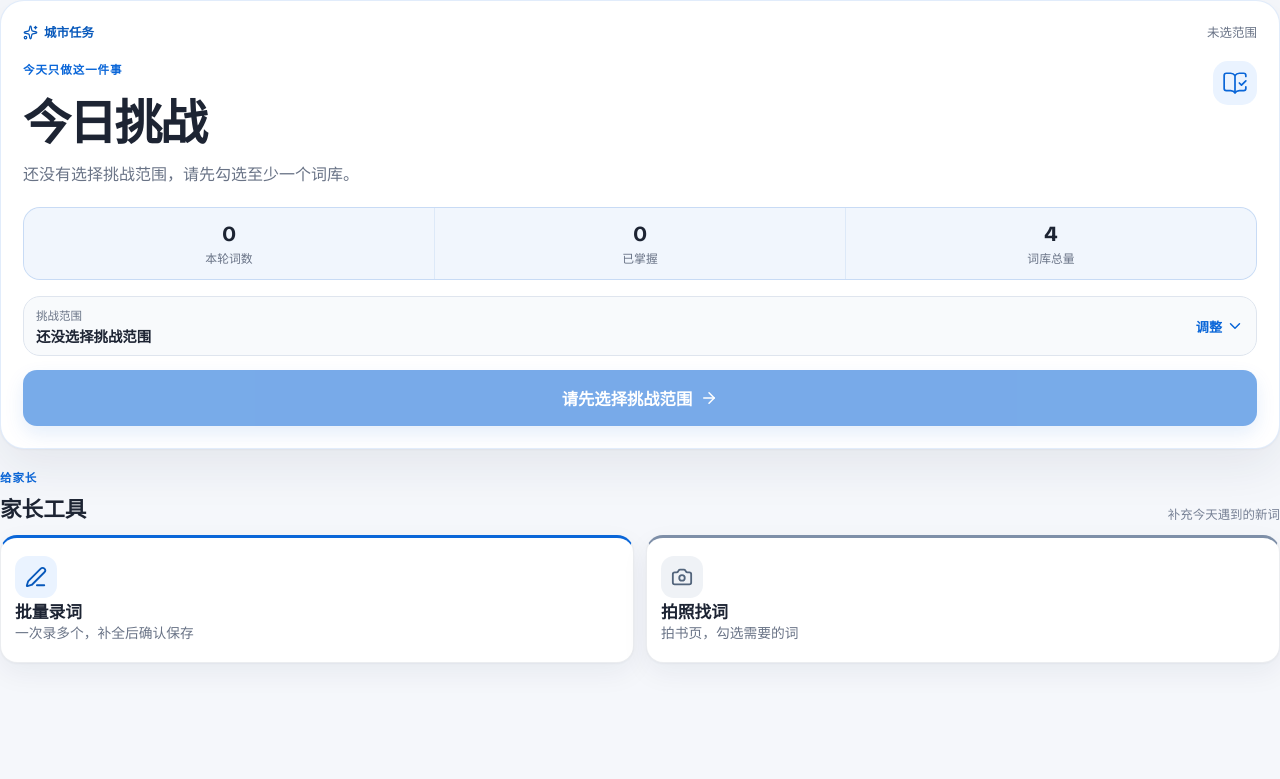
Test: HomePage › does not fall back to other libraries when the default library is empty
Expected: the text "还没选择挑战范围" is shown, [36, 324, 151, 346]
Click the button with aria-label "调整挑战范围" at (59, 316), box [24, 297, 1256, 355]
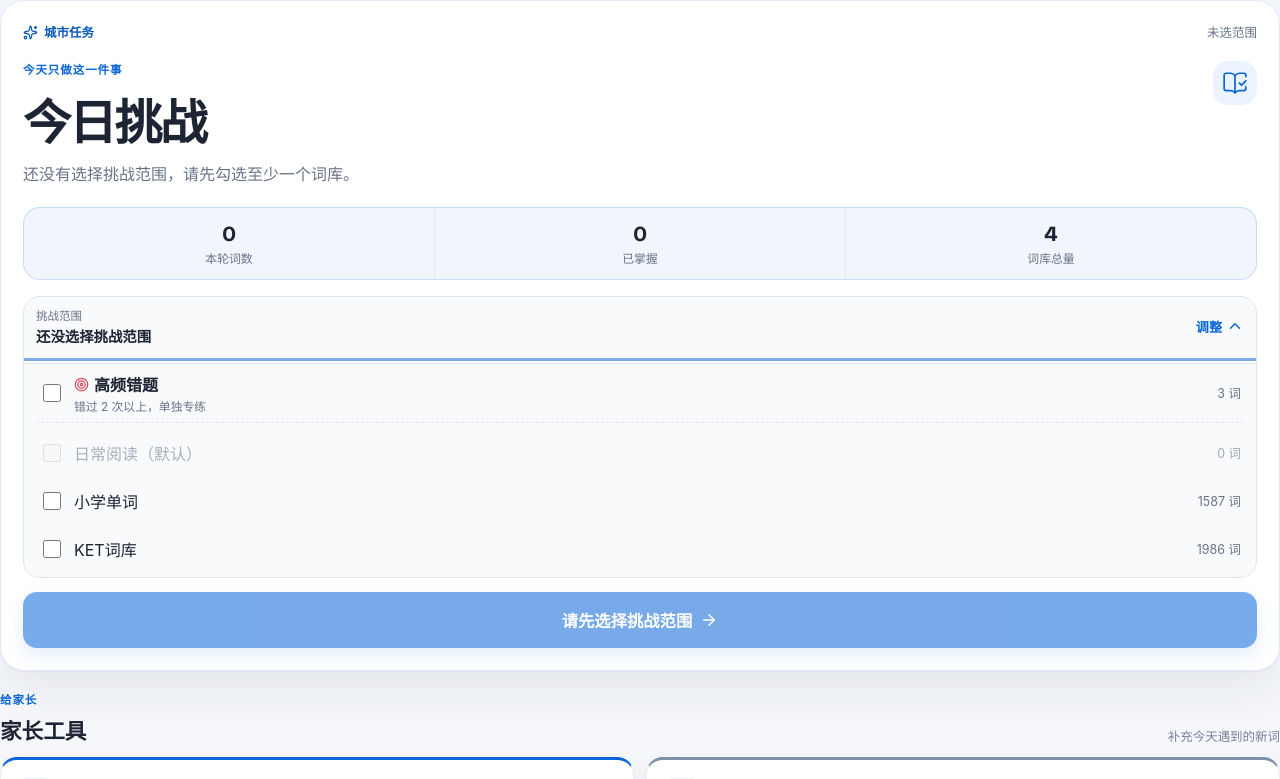
Result: the checkbox labelled "日常阅读（默认） 0 词" is disabled at [43, 444, 61, 462]
Result: the checkbox labelled "小学单词 1587 词" is not checked at [43, 492, 61, 510]
Result: the checkbox labelled "KET词库 1986 词" is not checked at [43, 540, 61, 558]
Click the checkbox labelled "高频错题 错过 2 次以上，单独专练 3 词" at (52, 393), box [43, 384, 61, 402]
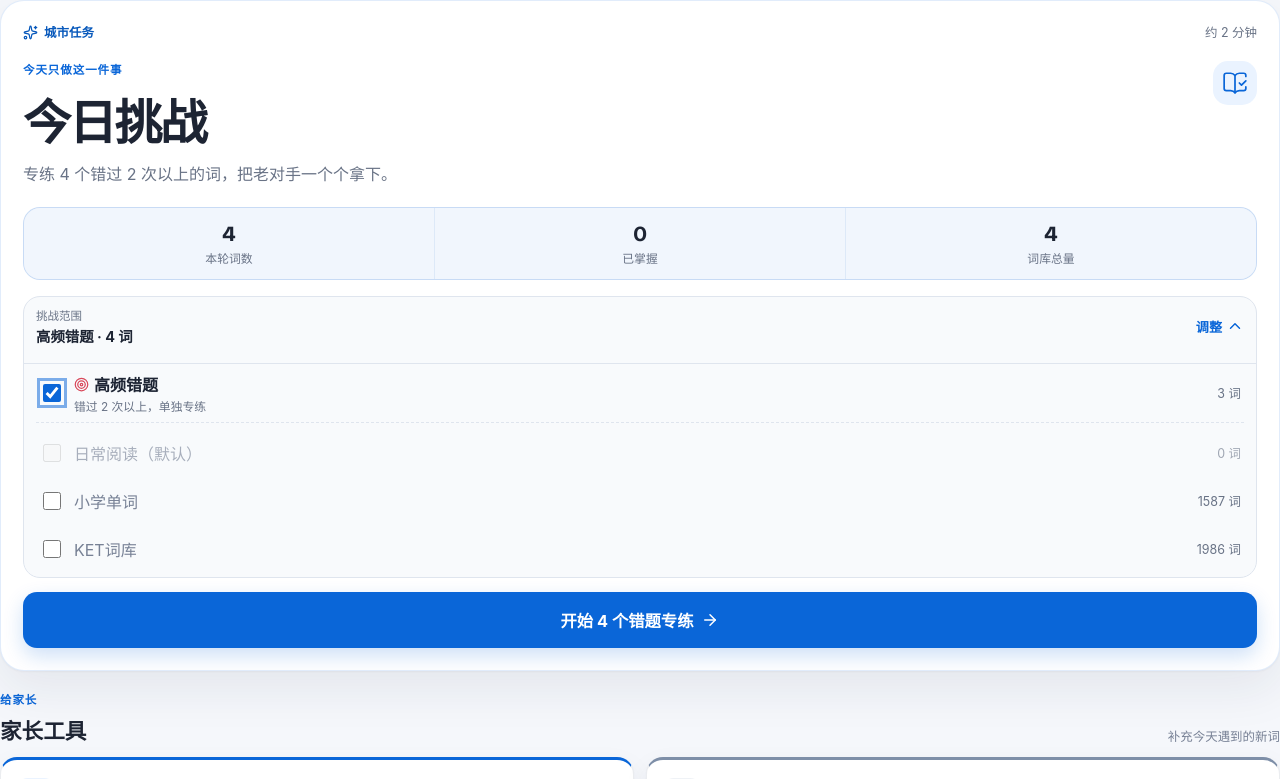
Click the checkbox labelled "高频错题 错过 2 次以上，单独专练 3 词" at (52, 393), box [43, 384, 61, 402]
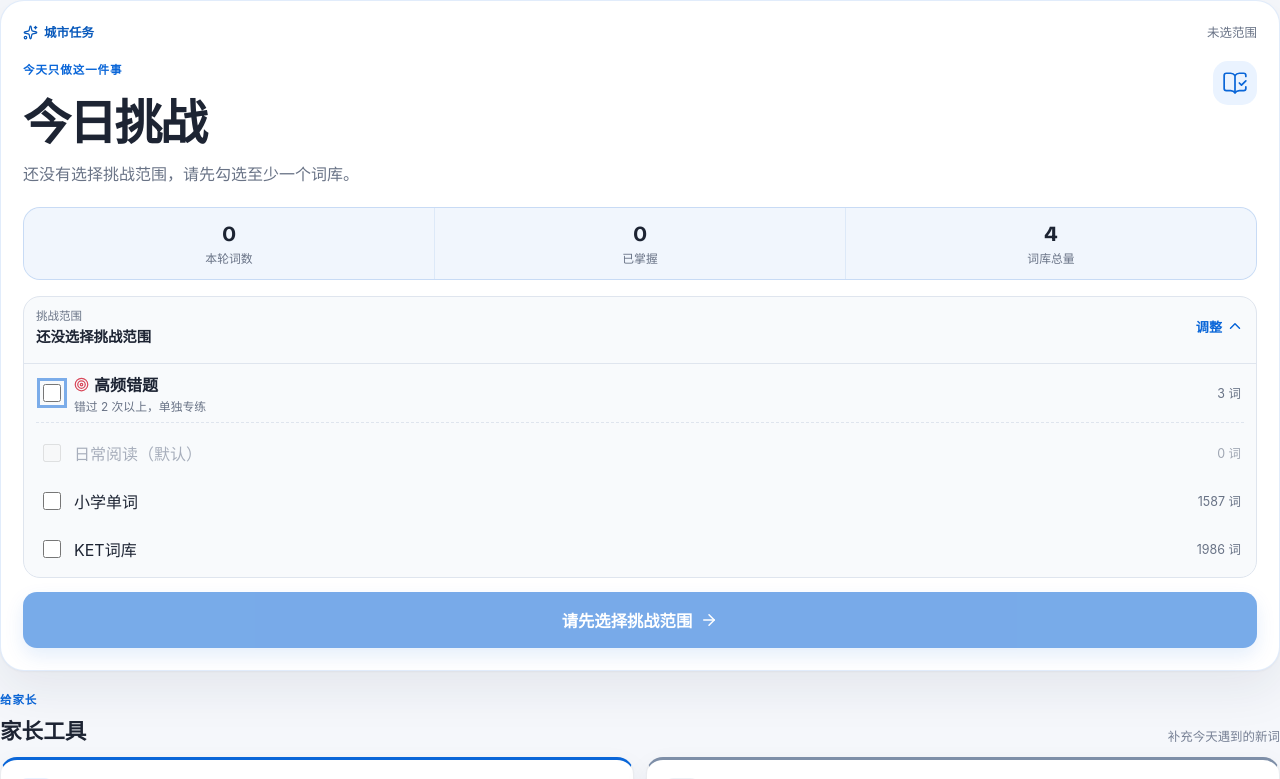
Result: the checkbox labelled "小学单词 1587 词" is not checked at [43, 492, 61, 510]
Result: the checkbox labelled "KET词库 1986 词" is not checked at [43, 540, 61, 558]
Result: the button "请先选择挑战范围" is disabled at [23, 592, 1257, 648]
